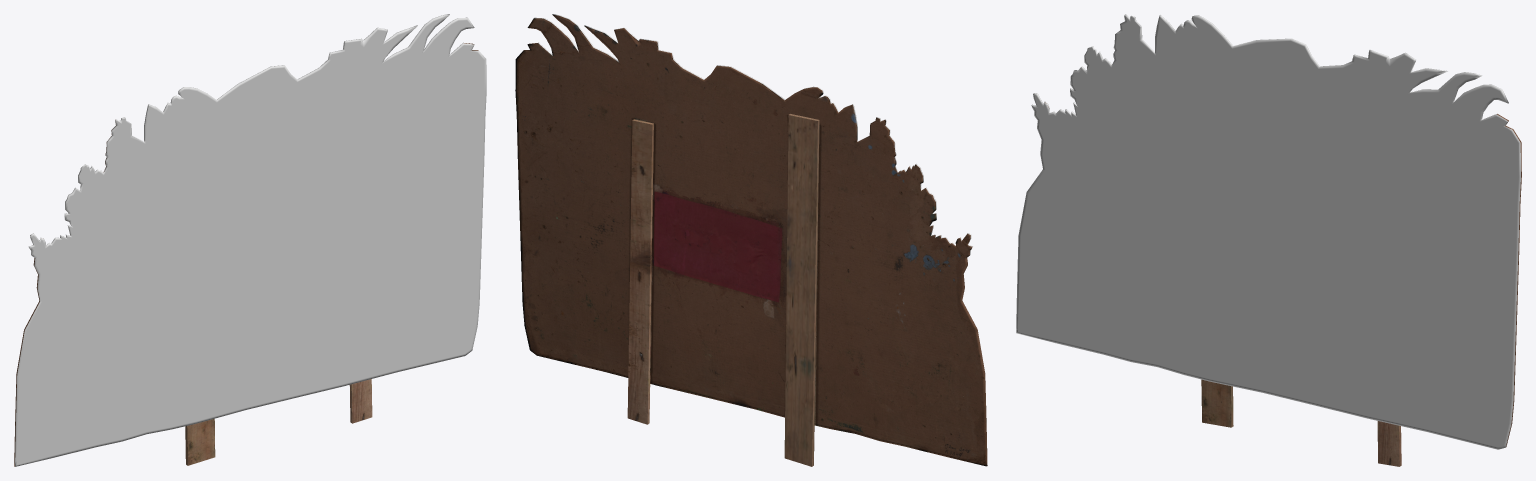
3 views of the same model, side by side, from view 1: azimuth 30°, elevation 25°; view 2: azimuth 150°, elevation 25°; view 3: azimuth 330°, elevation 25° (orthographic). The views are drawn at different scales.
Parts seen in each view (by area): view 1: stick2; view 2: stick2; view 3: stick2.
Boxes of the visible parts, bbox=[...] form: stick2: bbox=[14, 14, 486, 466]; stick2: bbox=[515, 14, 987, 466]; stick2: bbox=[1016, 14, 1521, 466].
Size of the model in its own units: 71.72 by 56.93 by 0.6353.
